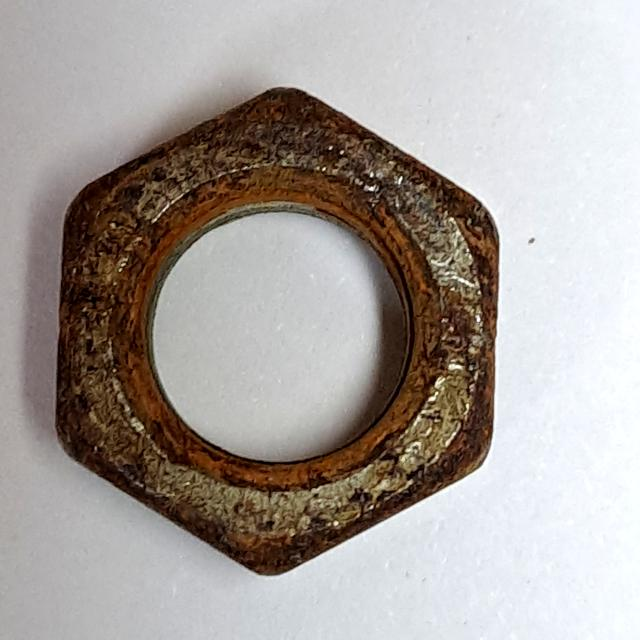Rust: (40, 68, 525, 589)
